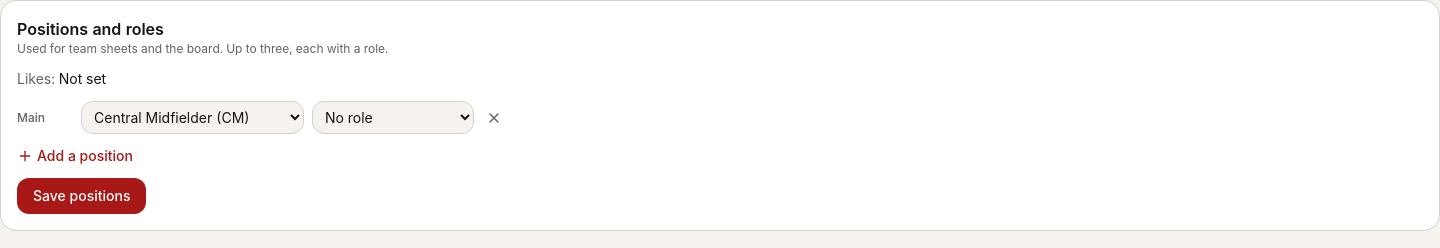
Scenario: PositionsEditor › saves the coach's choice with its role through the official action
Select "Box-to-box" in the dropdown named "Main role" at (393, 118), box [312,101,474,134]
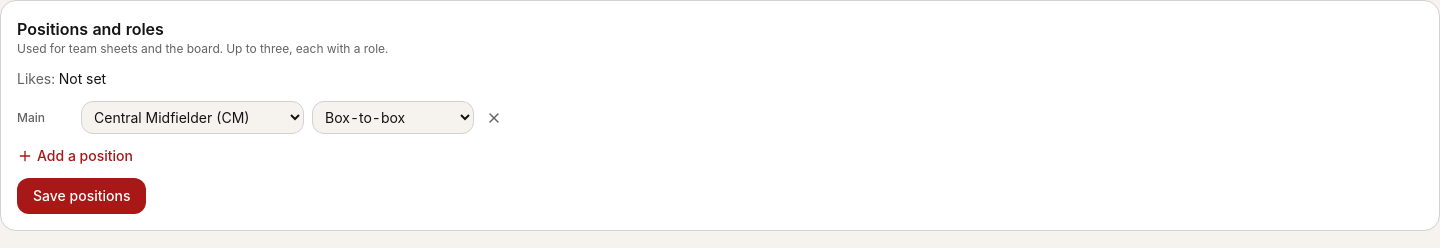
Click the button "Save positions" at (82, 196), box [17,178,146,214]
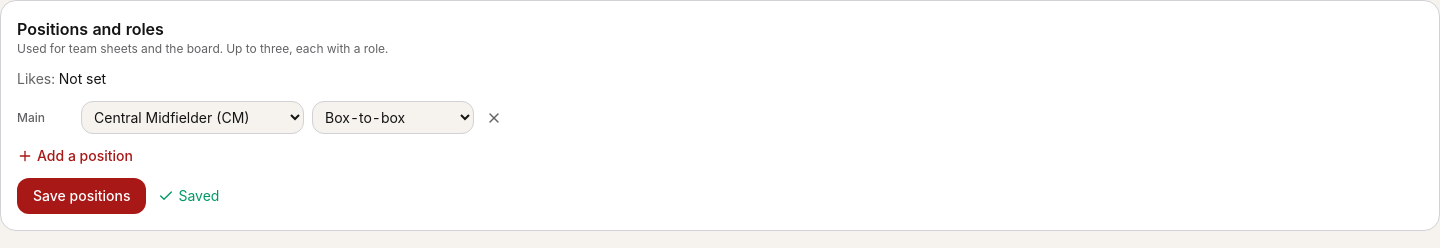
expect the text "Saved" is shown: met, box [158,186,219,206]
